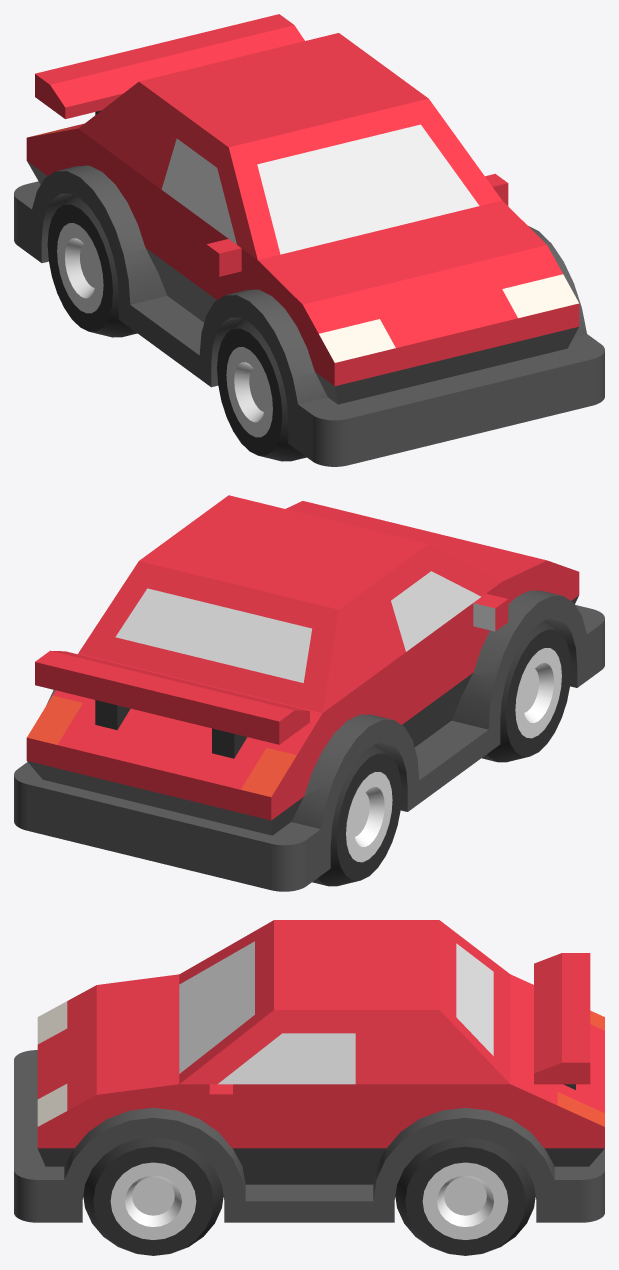
The model's file is sedanSports.fbx.
3 views of the same model, one above another, from view 1: azimuth 30°, elevation 25°; view 2: azimuth 150°, elevation 25°; view 3: azimuth 270°, elevation 25° (orthographic). The views are drawn at different scales.
Visible parts, largest first — view 1: body, spoiler, wheel_frontRight, wheel_backRight; view 2: body, spoiler, wheel_backRight, wheel_frontRight; view 3: body, wheel_backLeft, wheel_frontLeft, spoiler.
Part boxes in pixels (x1,y1,x2,y2): body: (14,33,604,466); spoiler: (35,14,304,118); wheel_frontRight: (217,319,306,461); wheel_backRight: (47,195,137,337); body: (14,495,604,891); spoiler: (35,650,309,758); wheel_backRight: (312,744,401,886); wheel_frontRight: (482,620,571,762); body: (14,920,604,1222); wheel_backLeft: (395,1137,535,1255); wheel_frontLeft: (83,1137,223,1255); spoiler: (534,953,590,1089).
Bounding box in the file's own units: 13 × 11 × 25.
